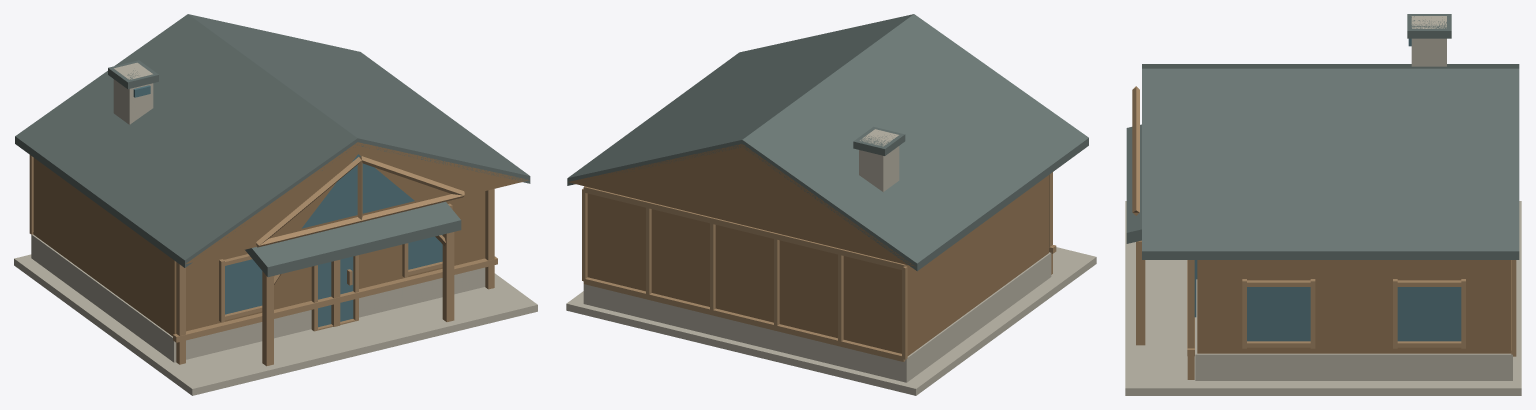
The model's file is house_small_01.glb.
3 renders of one model, left to right at view 1: azimuth 30°, elevation 25°; view 2: azimuth 150°, elevation 25°; view 3: azimuth 270°, elevation 25°, orthographic. The views are drawn at different scales.
Parts seen in each view (by area): view 1: House_small_01; view 2: House_small_01; view 3: House_small_01.
Boxes of the visible parts, <box> form: House_small_01: <box>14,14,537,395</box>; House_small_01: <box>566,14,1096,395</box>; House_small_01: <box>1125,14,1521,395</box>.
Bounding box in the file's own units: 9.4 × 5.46 × 8.4.
